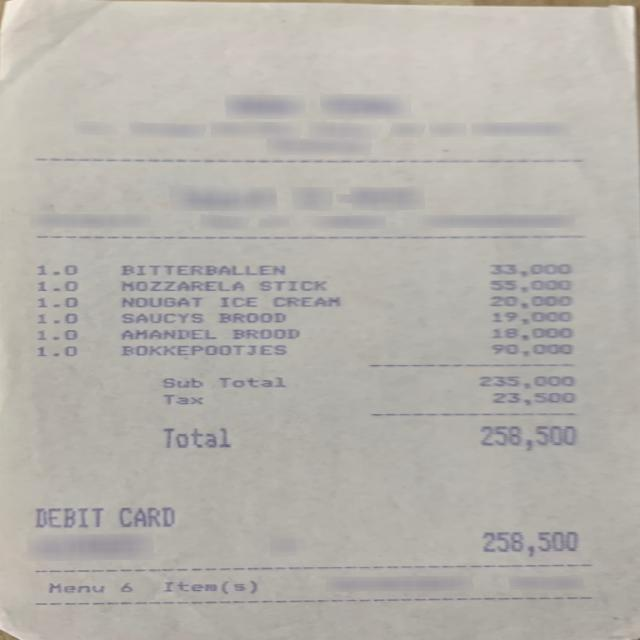text: (481, 530, 576, 556), (480, 426, 576, 450), (119, 344, 284, 356), (119, 264, 282, 274), (30, 506, 101, 527), (160, 427, 228, 447), (120, 280, 240, 290), (162, 580, 254, 593), (116, 506, 174, 526), (487, 294, 569, 308), (488, 263, 569, 276), (491, 392, 572, 405), (488, 279, 568, 292), (491, 327, 571, 340), (491, 343, 571, 356), (478, 376, 572, 387), (491, 311, 569, 324), (119, 328, 215, 338), (120, 296, 200, 306), (120, 313, 200, 322), (229, 328, 297, 338), (272, 296, 339, 306), (259, 280, 324, 290), (216, 312, 283, 321), (218, 377, 284, 386), (48, 583, 100, 592), (34, 312, 74, 323), (34, 328, 74, 339), (160, 376, 200, 387), (34, 280, 74, 290), (160, 394, 200, 404), (36, 264, 75, 274), (37, 297, 76, 307), (220, 296, 256, 306), (36, 346, 75, 355), (120, 582, 129, 591)
